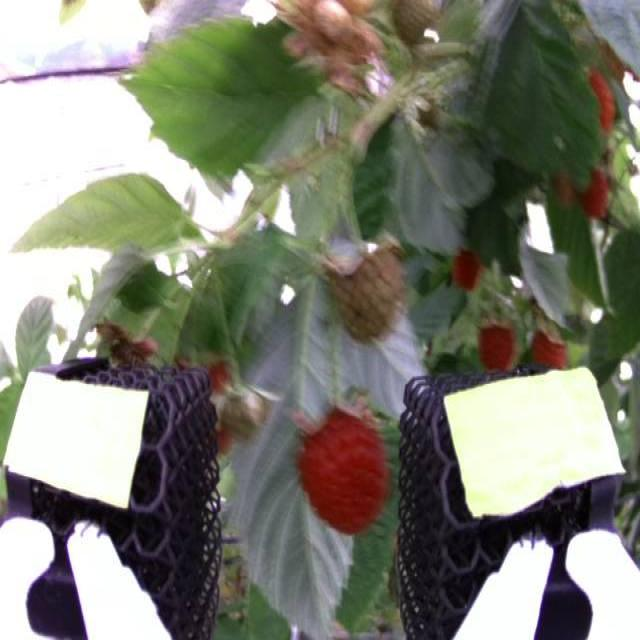Riped berries: (296, 392, 396, 530), (478, 315, 515, 372), (578, 167, 613, 223), (449, 239, 482, 290), (530, 318, 568, 362)
